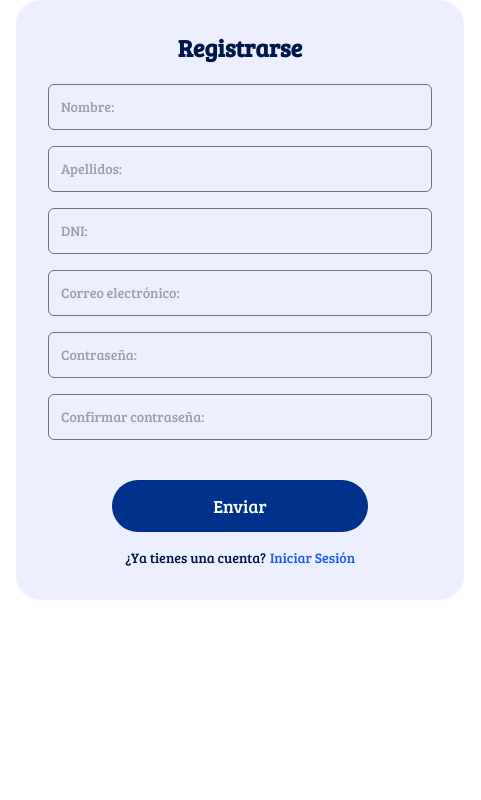
Scenario: Formulario de registro › debería mostrar error si las contraseñas no coinciden
Type "123456" into the password field with placeholder "Contraseña:" at {"x": 240, "y": 355}, box left=48, top=332, right=432, bottom=378
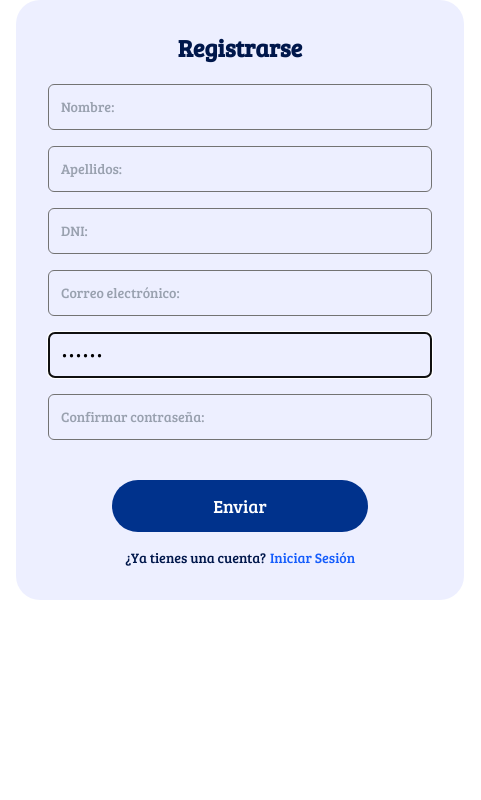
Type "diferente" into the password field with placeholder "Confirmar contraseña:" at {"x": 240, "y": 417}, box left=48, top=394, right=432, bottom=440
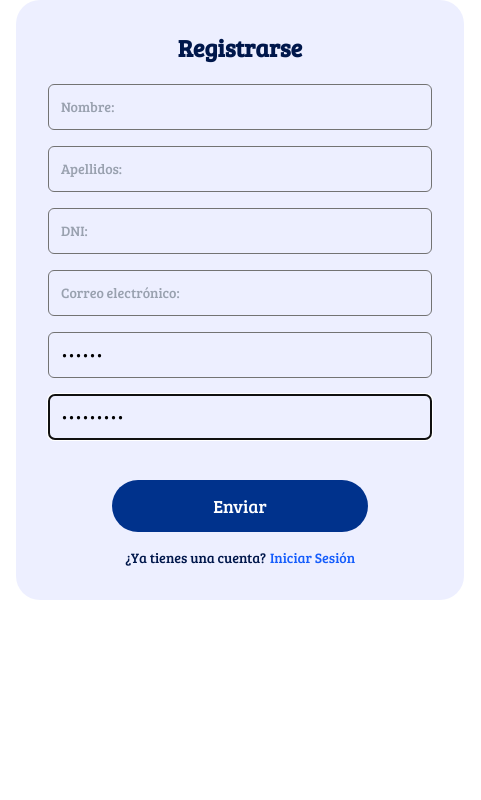
Click the button "Enviar" at {"x": 240, "y": 506}, box left=112, top=480, right=368, bottom=532
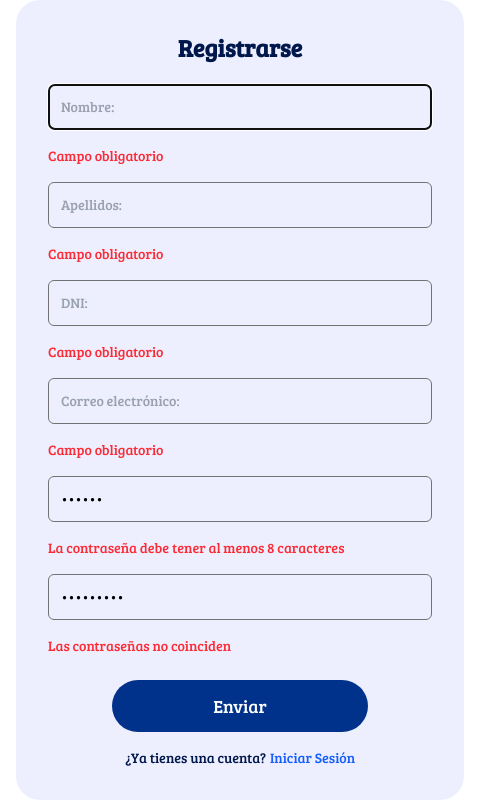
Now the text "Las contraseñas no coinciden" is shown, box left=48, top=636, right=231, bottom=655
